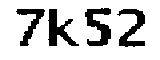2: (116, 6, 152, 53)
5: (82, 6, 114, 49)
7: (14, 5, 46, 49)
k: (48, 6, 79, 52)
